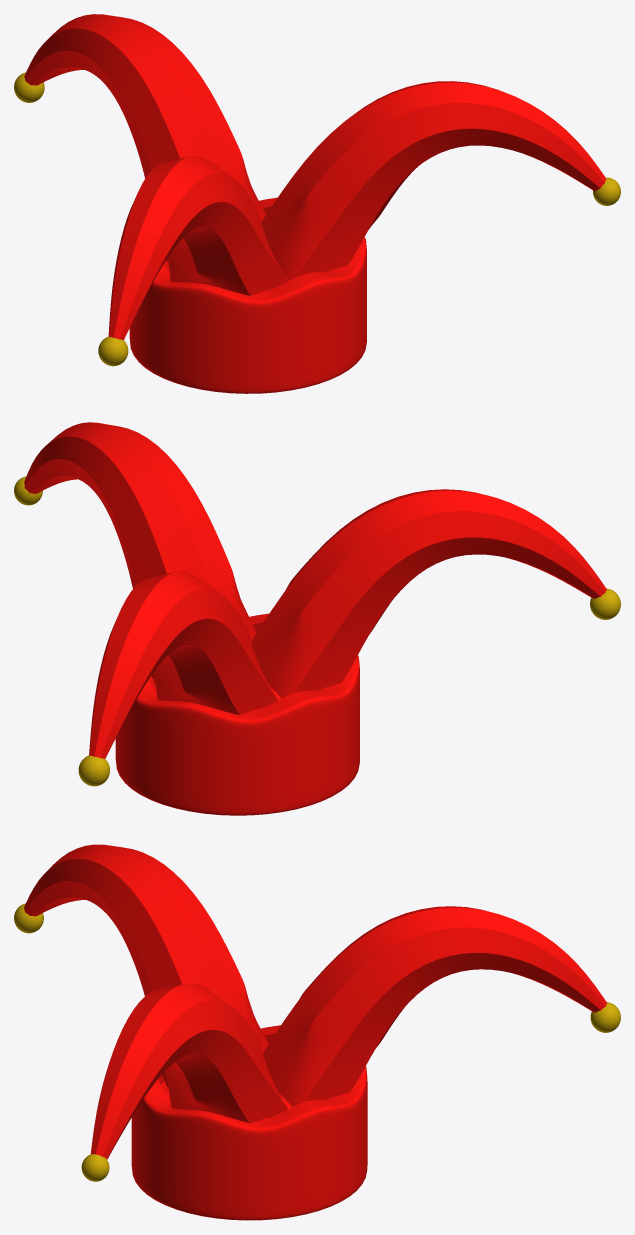
The model's file is jester_cap.obj.
3 renders of one model, top to bottom at view 1: azimuth 30°, elevation 25°; view 2: azimuth 150°, elevation 25°; view 3: azimuth 270°, elevation 25°, orthographic. The views are drawn at different scales.
Parts seen in each view (by area): view 1: Cap, Band, Bells; view 2: Cap, Band, Bells; view 3: Cap, Band, Bells.
Part boxes in pixels (box(x1,y1,x2,y2)): Cap: box(24, 14, 606, 340); Band: box(129, 197, 366, 393); Bells: box(14, 72, 620, 366); Cap: box(24, 422, 606, 758); Band: box(115, 613, 359, 815); Bells: box(14, 476, 620, 786); Cap: box(24, 844, 607, 1159); Band: box(131, 1025, 367, 1220); Bells: box(14, 903, 620, 1181).
Size of the model in its own units: 8.55 by 3.76 by 8.19.
